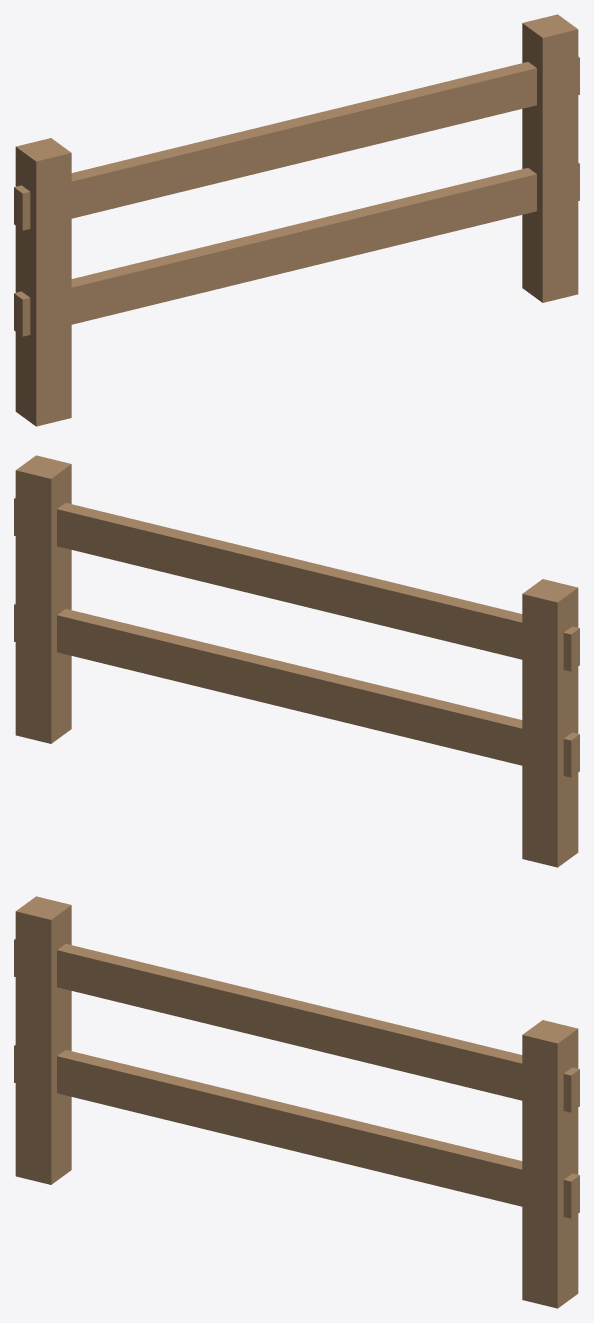
Rendered from Fence.fbx.
3 renders of one model, top to bottom at view 1: azimuth 30°, elevation 25°; view 2: azimuth 150°, elevation 25°; view 3: azimuth 330°, elevation 25°, orthographic.
Parts seen in each view (by area): view 1: Fence; view 2: Fence; view 3: Fence.
Boxes of the visible parts, <box> form: Fence: <box>14,14,579,426</box>; Fence: <box>14,455,579,867</box>; Fence: <box>14,896,579,1308</box>.
Size of the model in its own units: 2.2 by 1 by 0.14.
